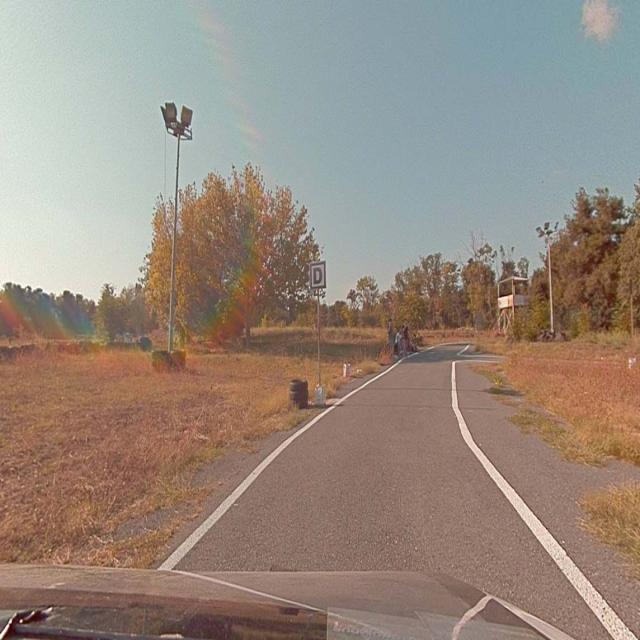durak: (310, 262, 326, 287)
